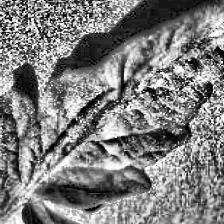leaf mold: (35, 0, 224, 207)
